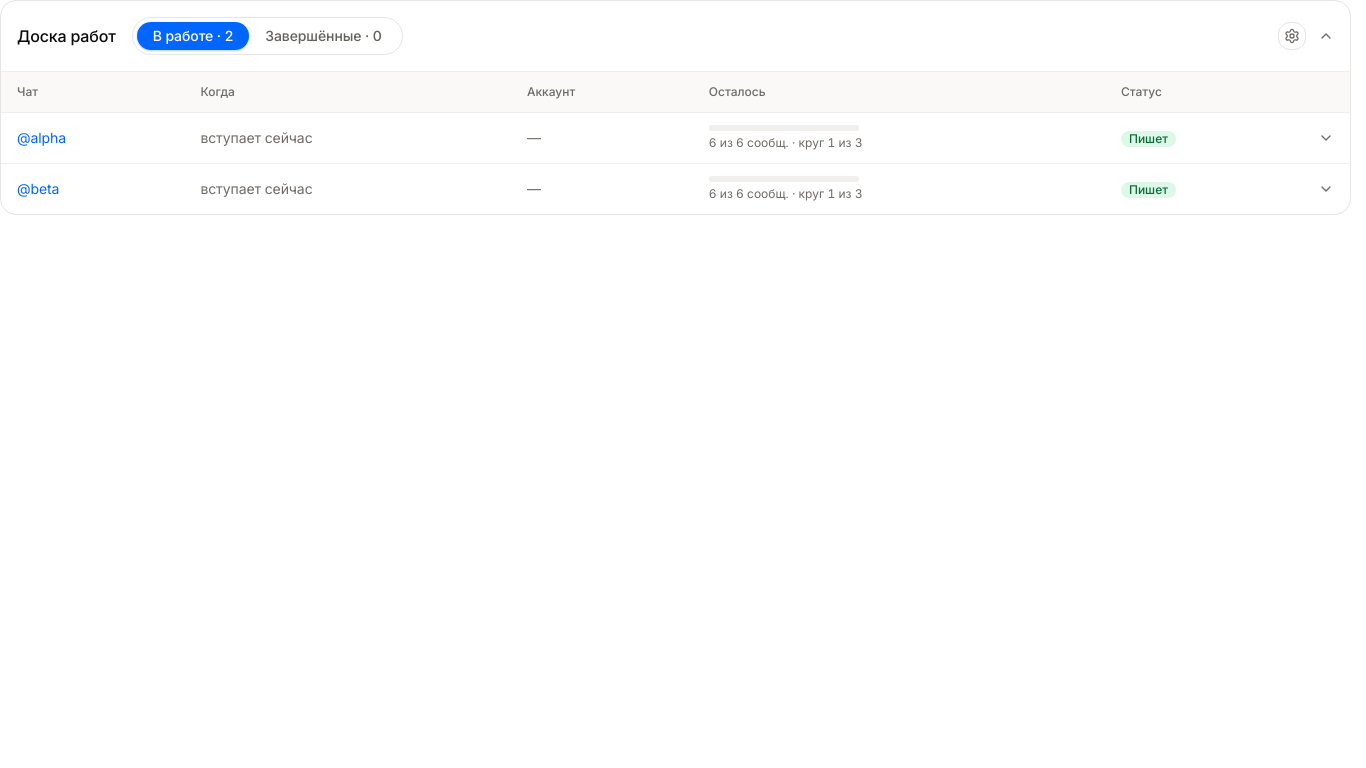
a long chat history shows its six newest entries and a button for the rest
Click the button named "История и действия" in the row of "@alpha": click(1326, 138) [1306,118,1346,158]
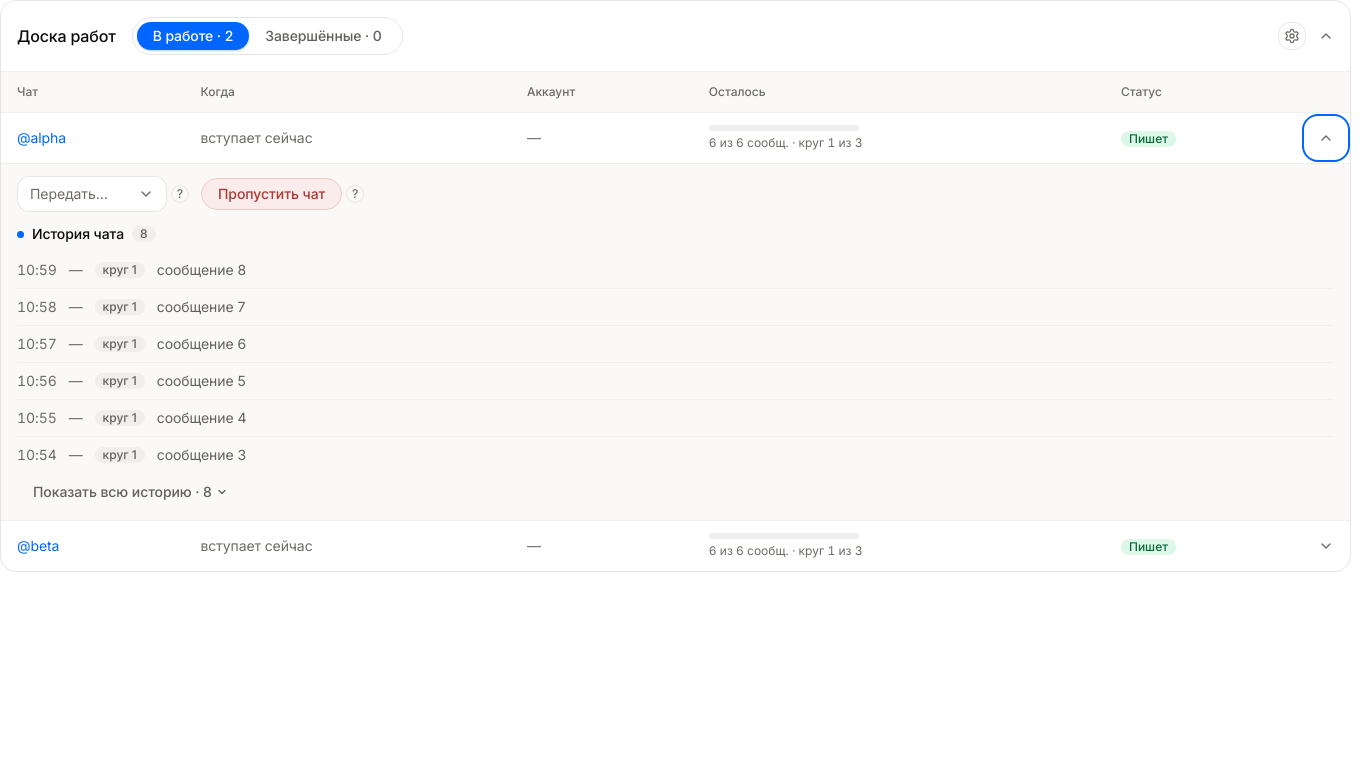
Expected: the text "сообщение 2" is not shown
Now the text "сообщение 8" is shown, box [157,261,246,278]
Now the text "8" is shown, box [132,226,156,242]
Click the button "Показать всю историю · 8": click(130, 492) [17,476,244,508]
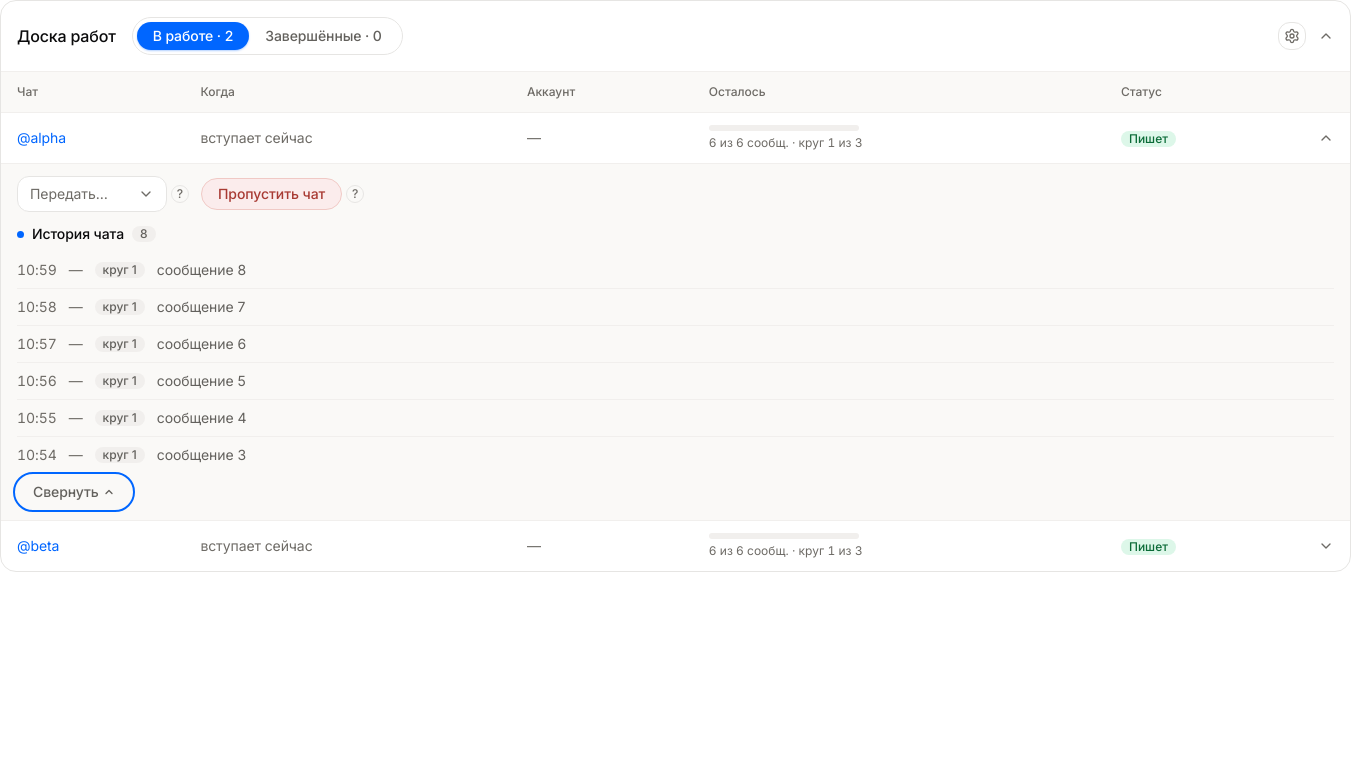
Now the button "Свернуть" is expanded
Click the button "Свернуть": click(74, 492) [17,476,131,508]
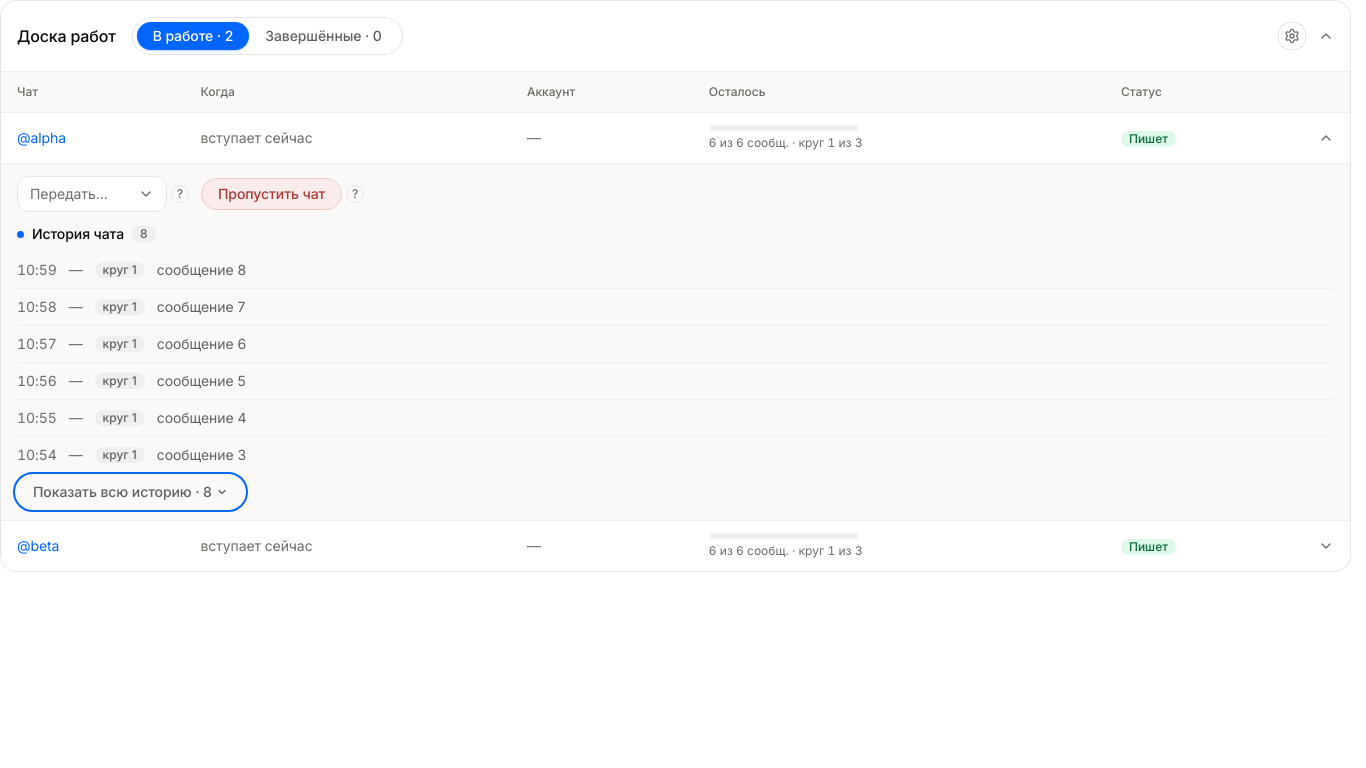
Now the button "Показать всю историю · 8" is shown, box [17,476,244,508]
